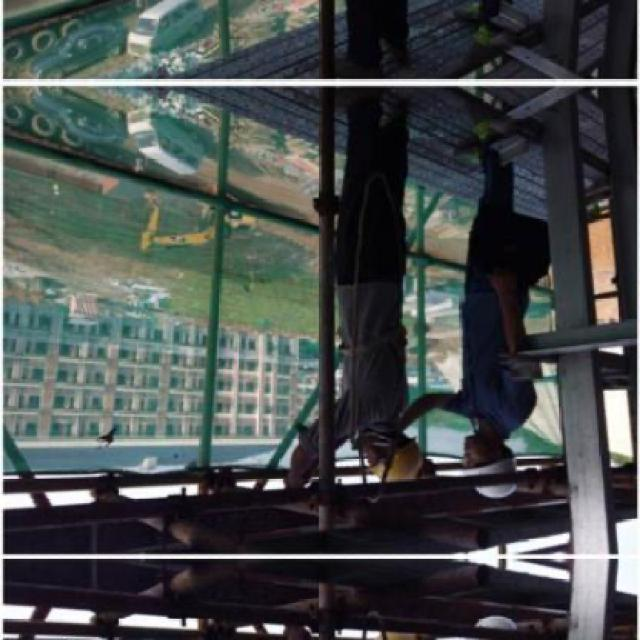con casco: (447, 408, 545, 509)
